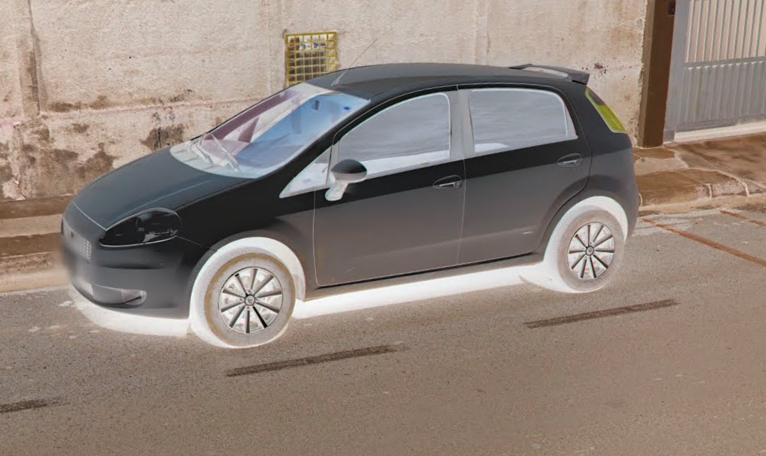car: (58, 61, 648, 348)
